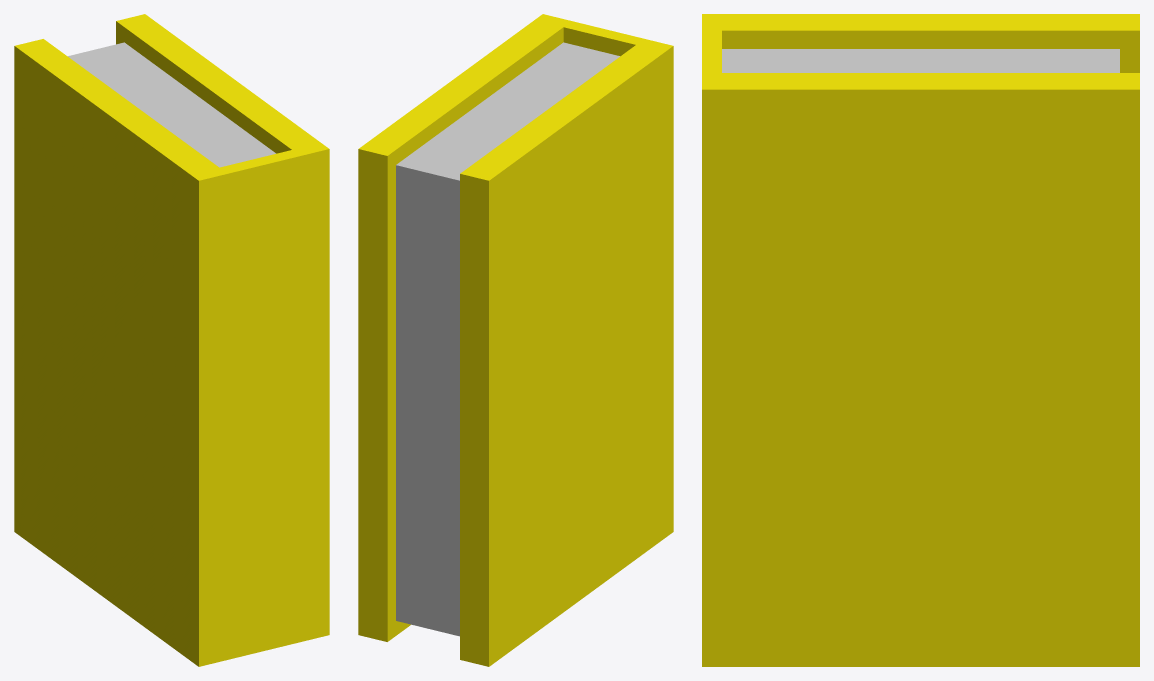
The model's file is YellowBook.fbx.
3 renders of one model, left to right at view 1: azimuth 30°, elevation 25°; view 2: azimuth 150°, elevation 25°; view 3: azimuth 270°, elevation 25°, orthographic. The views are drawn at different scales.
Parts seen in each view (by area): view 1: YellowBook; view 2: YellowBook; view 3: YellowBook.
Part boxes in pixels (x1,y1,x2,y2): YellowBook: (14, 14, 329, 666); YellowBook: (358, 14, 673, 666); YellowBook: (702, 14, 1139, 666).
Bounding box in the file's own units: 9 × 32 × 22.
1 material, 1 textured.
